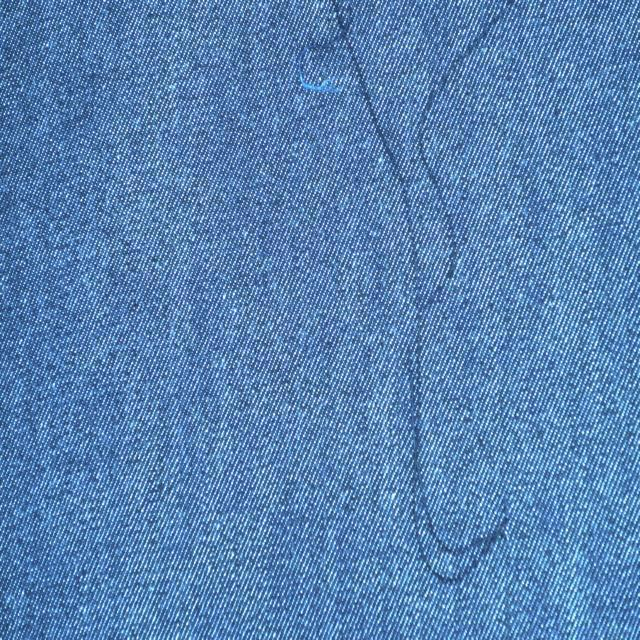defect: (290, 0, 522, 594)
